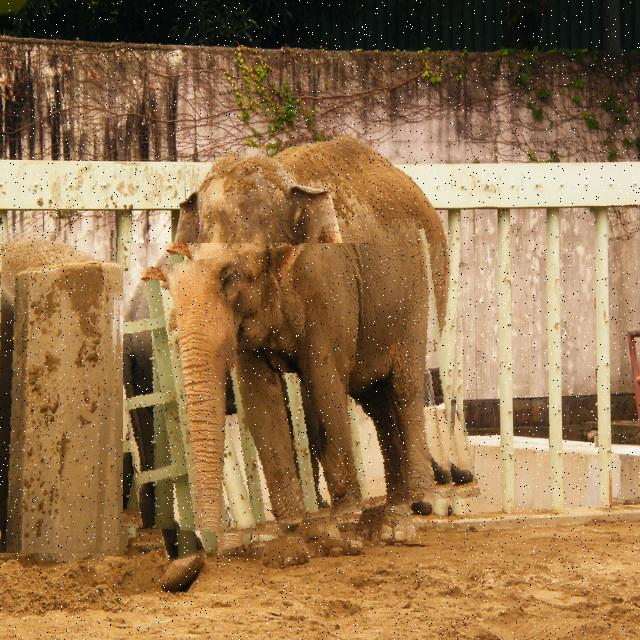elephant: (123, 243, 468, 546), (0, 230, 125, 553)
